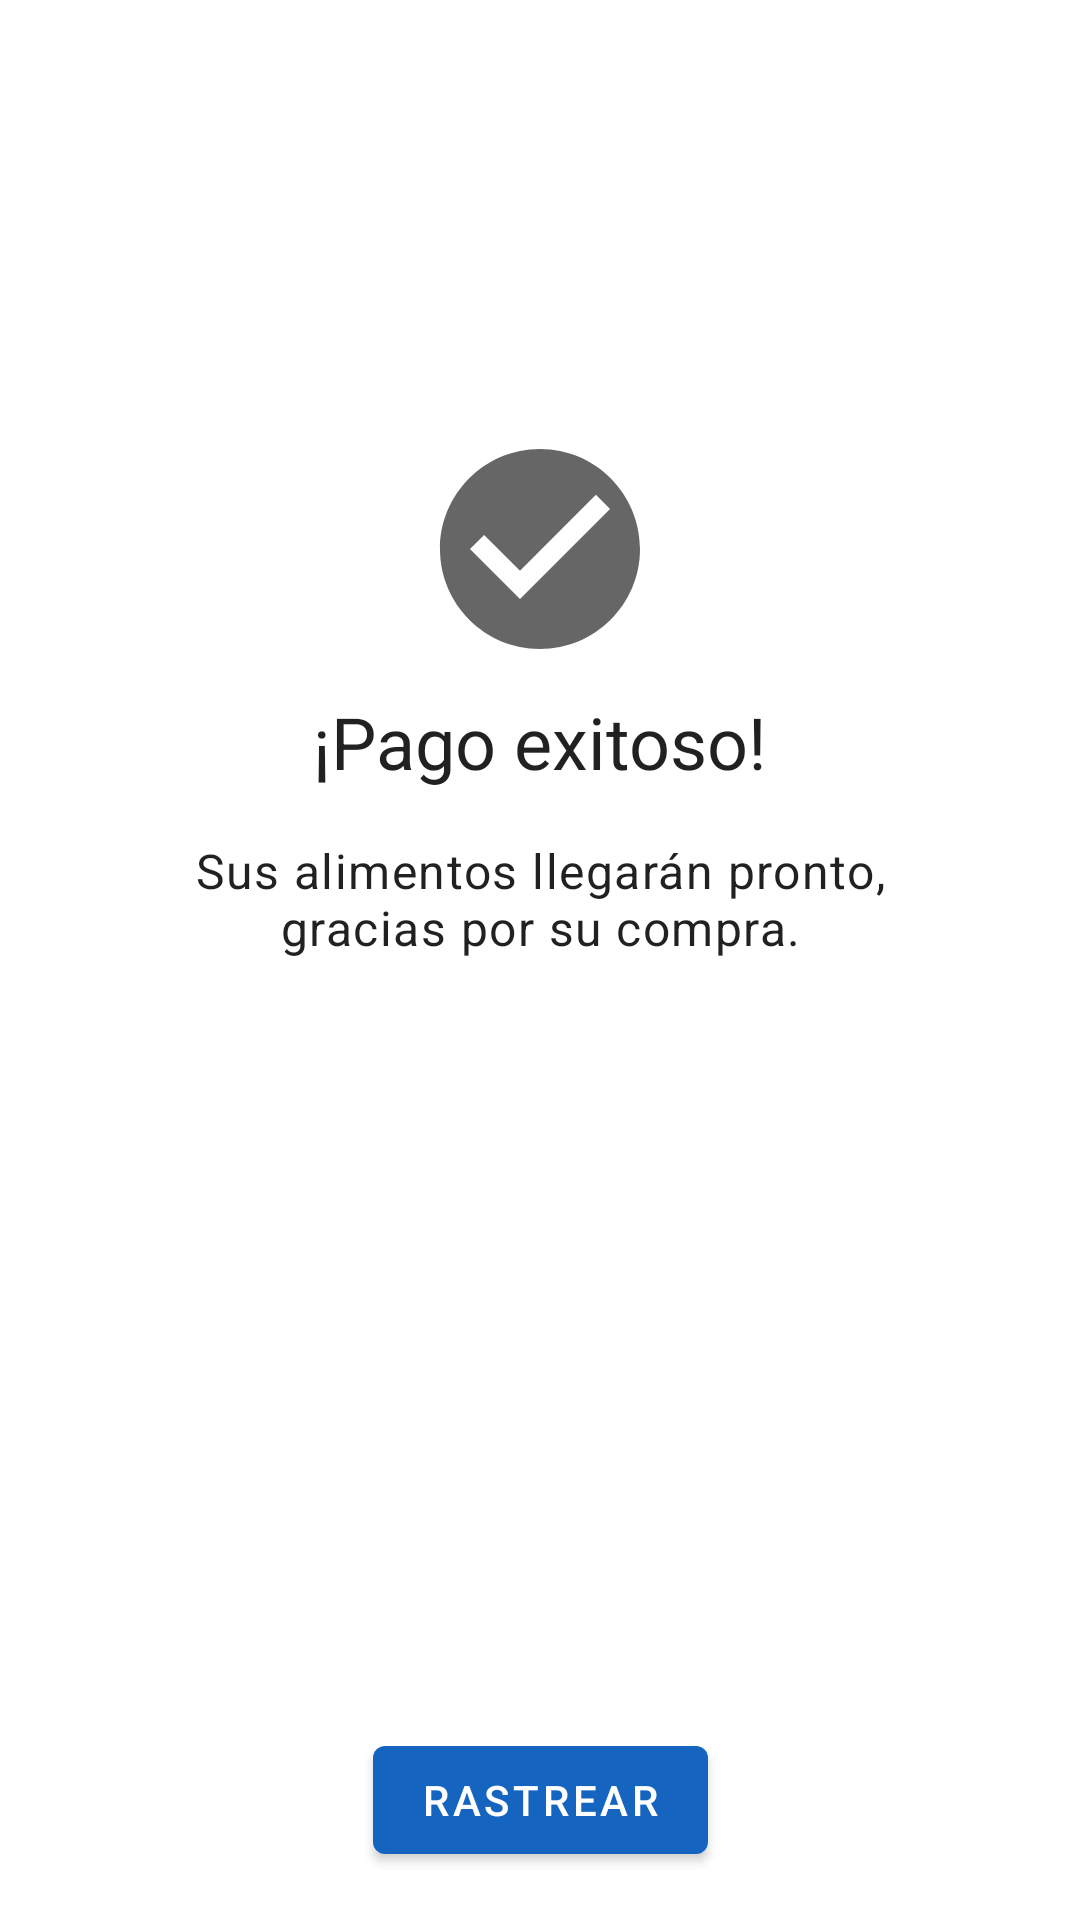

Icons on this 1080*1920 Android screen, each with the point to tap as (x=x, y=y):
check circle: (x=540, y=549)
